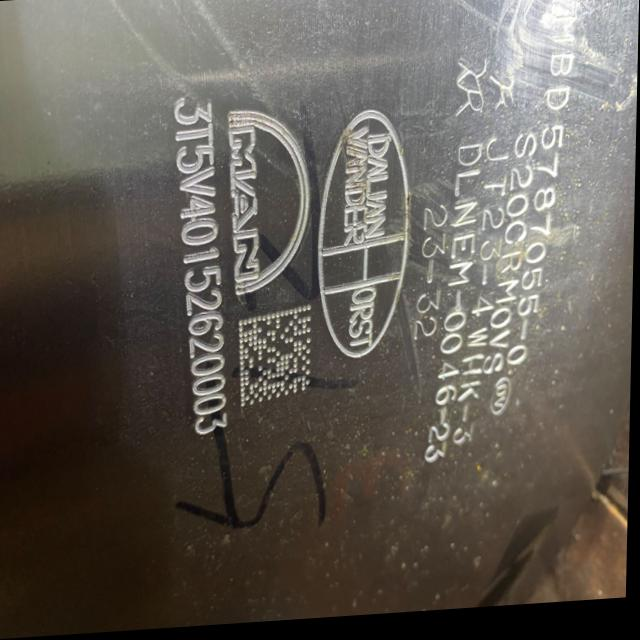dmc: (240, 307, 313, 409)
